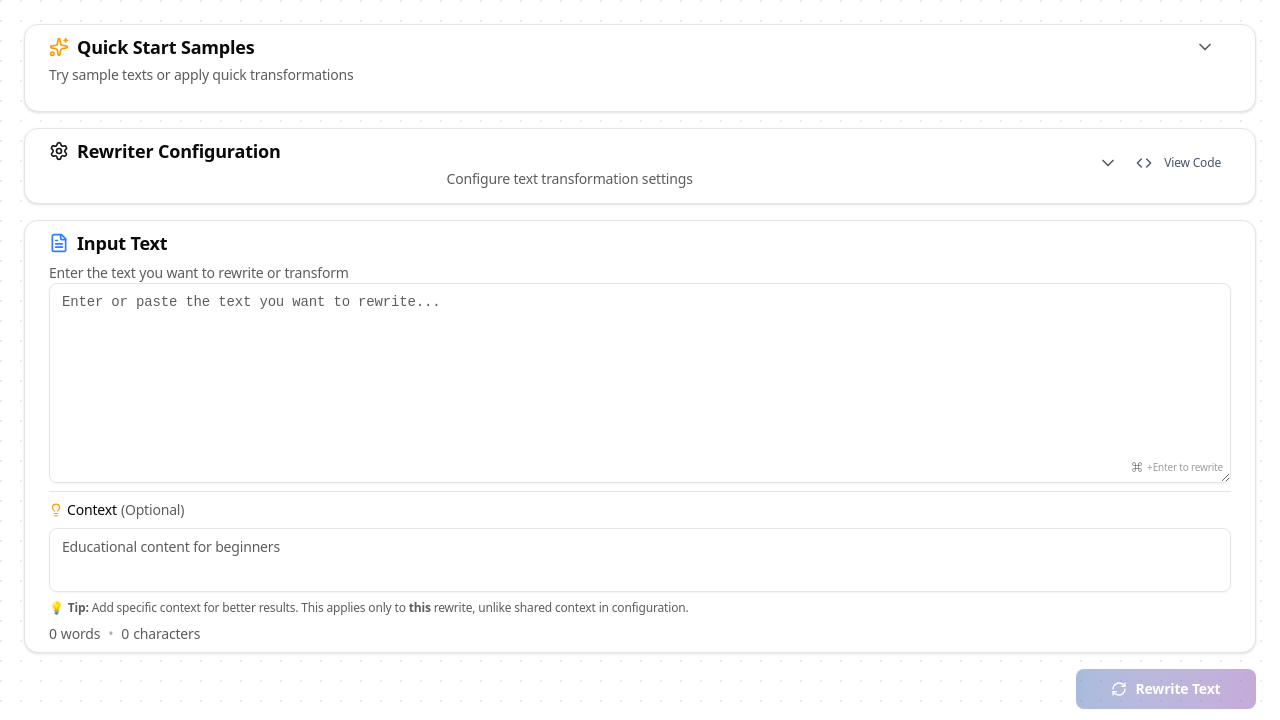
Test: PlaygroundTab - Button Functionality › Button Disabled States › enables button when all conditions are met
Type "Test text to rewrite" into the text box named "Input text for rewriting". click: {"x": 640, "y": 383}
box: [49,283,1231,483]
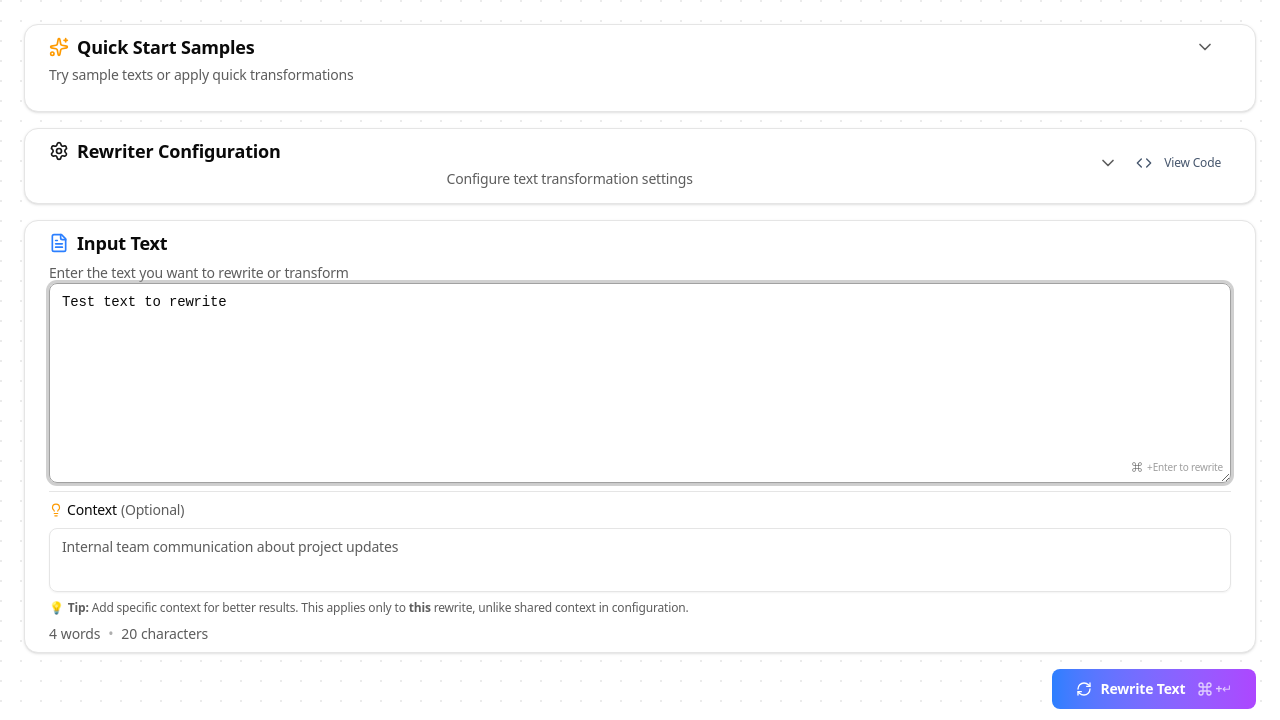
Result: the button "Rewrite Text +↵" is enabled at [1052,669,1256,709]
